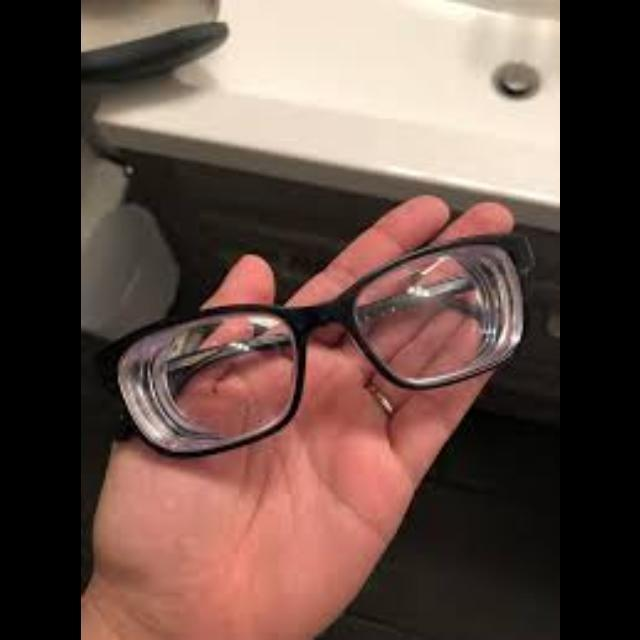glasses: (103, 230, 535, 460)
